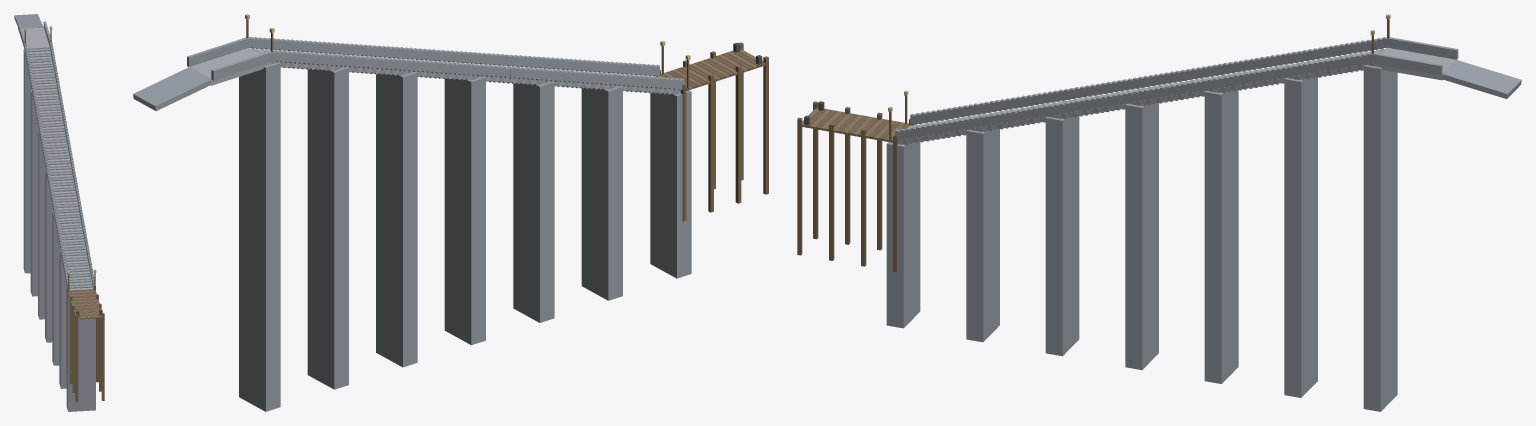
Rendered from frost_landing_aurora_arch.glb.
The picture shows the model from 3 angles, left to right: view 1: azimuth 30°, elevation 25°; view 2: azimuth 150°, elevation 25°; view 3: azimuth 270°, elevation 25°; orthographic projection. The views are drawn at different scales.
Visible parts, largest first — view 1: geometry_0; view 2: geometry_0; view 3: geometry_0.
Part boxes in pixels (x1,y1,x2,y2): geometry_0: (14, 14, 104, 411); geometry_0: (133, 14, 768, 411); geometry_0: (797, 14, 1521, 411).
Bounding box in the file's own units: 28.78 × 36.31 × 62.89.
